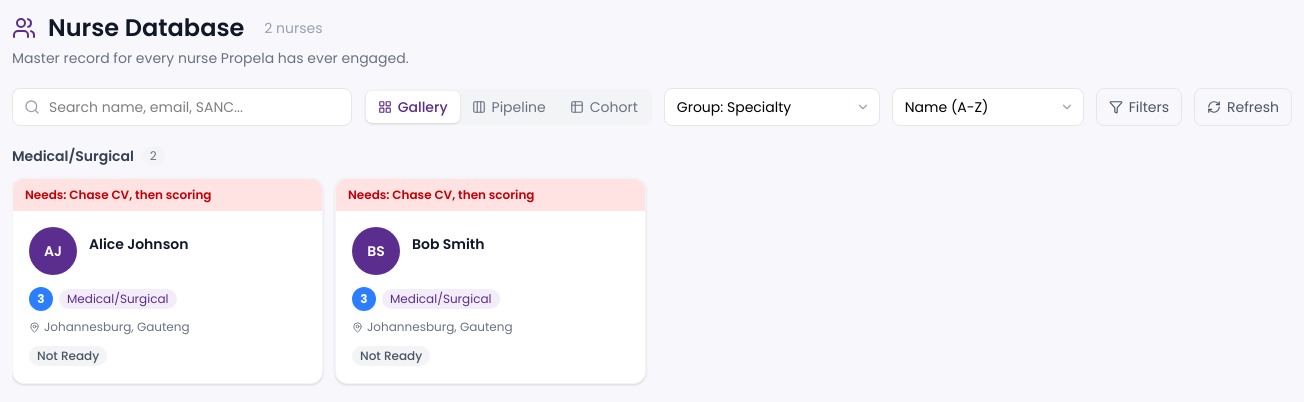
Test: Filter and search integration tests › Nurse search by name › searches by email address
The width and height of the screenshot is (1304, 402).
Type "special" into the field with placeholder "Search name, email, SANC...". click: (182, 107)
box: top-left (12, 88), bottom-right (352, 126)
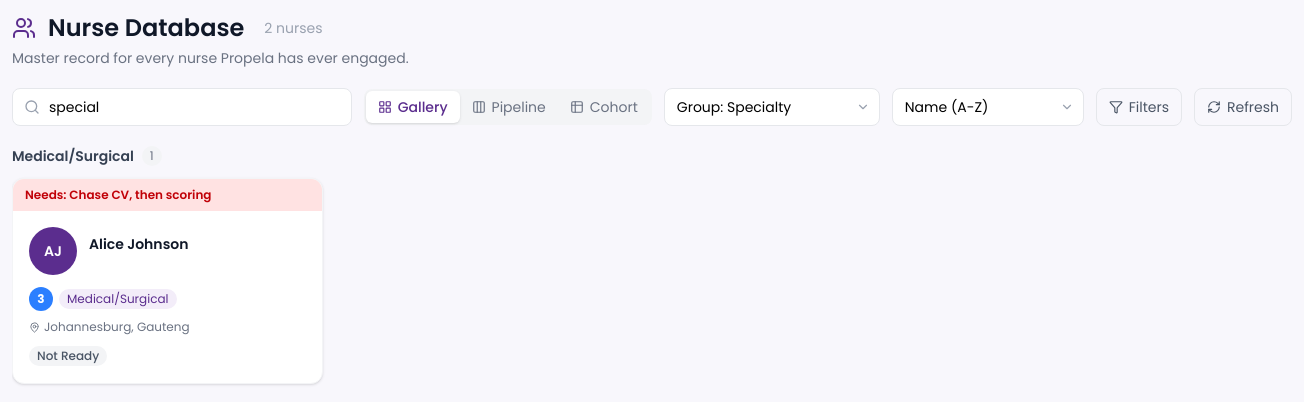
Expected: the text "Alice Johnson" is shown, top-left (89, 234), bottom-right (188, 254)
Expected: the text "Bob Smith" is gone
